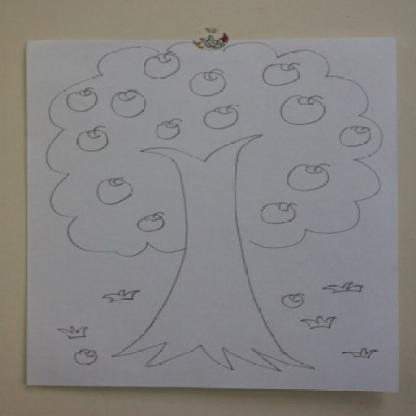apple: (279, 92, 325, 126), (285, 160, 330, 193), (94, 176, 134, 206), (188, 67, 229, 96), (110, 88, 148, 119), (140, 51, 182, 79), (201, 103, 243, 129), (73, 126, 111, 152), (260, 63, 302, 86), (260, 201, 298, 225), (65, 88, 98, 113), (154, 116, 185, 140), (336, 126, 372, 146), (137, 212, 168, 233), (73, 348, 99, 366), (282, 291, 306, 309)
crown_cloud: (45, 49, 380, 256)
root_upside: (54, 324, 316, 372)
trunk_straight: (170, 180, 256, 297)
